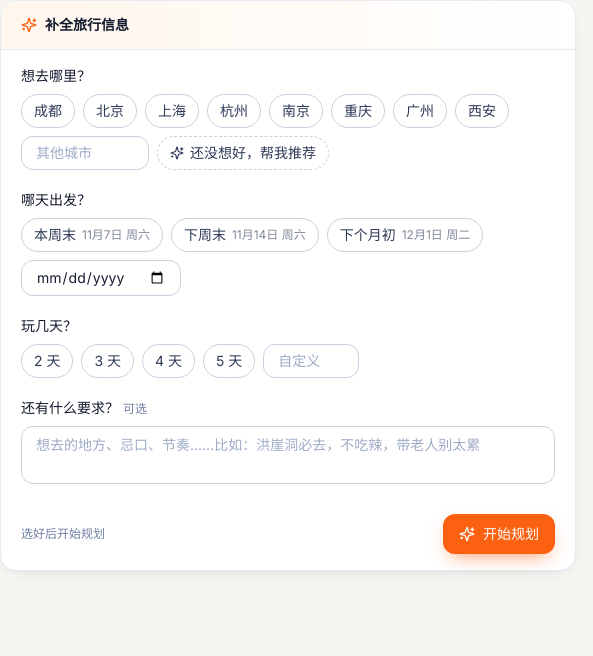
Test case: TripCard › does not submit an invalid form and shows the errors
What coordinates should you click on to do the following:
click the button "开始规划"
I would click on:
 (499, 534)
Its box is [443,514,555,554].
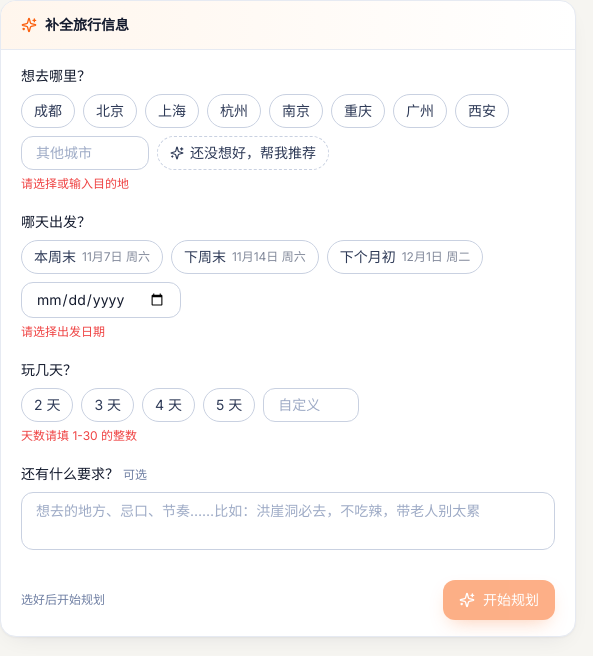
Result: the text "请选择或输入目的地" is shown at [21,176,129,191]
